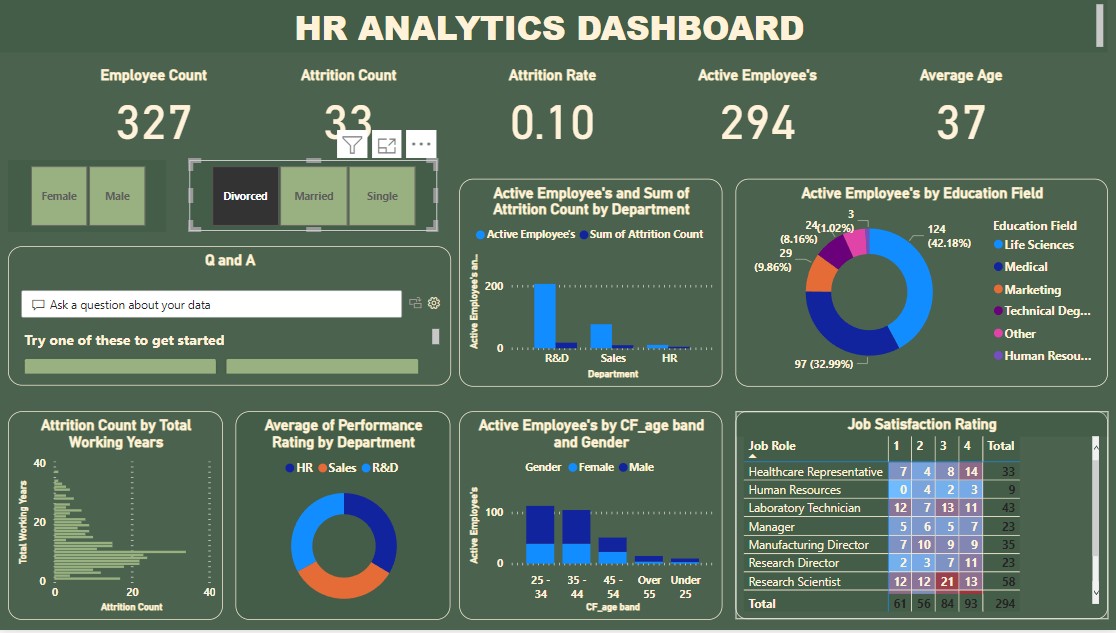

What the dashboard file says about the page in this screenshot:
{"tool":"powerbi","page":{"name":"Page 1","canvas":[1280,720],"ordinal":0},"visuals":[{"type":"card","title":"Employee Count","fields":{"Values":["Sum(HR data.Employee Count)"]},"box":[96.1,75.5,164.7,94.7],"z":0,"group":"g1"},{"type":"card","title":"Attrition Count","fields":{"Values":["Sum(HR data.Attrition Count)"]},"box":[318.9,76,164.7,94.7],"z":1000,"group":"g1"},{"type":"card","title":"Average Age","fields":{"Values":["Avg(HR data.Age)"]},"box":[1018.8,76,164.7,94.7],"z":2000,"group":"g1"},{"type":"card","title":"Active Employee''s","fields":{"Values":["HR data.Active Employee's"]},"box":[785.5,76,164.7,94.7],"z":3000,"group":"g1"},{"type":"card","title":"Attrition Rate","fields":{"Values":["HR data.Attrition Rate"]},"box":[552.2,76,164.7,94.7],"z":4000,"group":"g1"},{"type":"clusteredColumnChart","fields":{"Category":["HR data.Department"],"Y":["HR data.Active Employee's","Sum(HR data.Attrition Count)"]},"box":[526.9,204.5,300.5,237.4],"z":5000},{"type":"donutChart","fields":{"Y":["HR data.Active Employee's"],"Category":["HR data.Education Field"]},"box":[842.5,204.5,425.4,237.4],"z":6000},{"type":"columnChart","fields":{"Category":["HR data.CF_age band"],"Y":["HR data.Active Employee's"],"Series":["HR data.Gender"]},"box":[526.9,470.7,300.5,238.8],"z":7000},{"type":"pivotTable","title":"Job Satisfaction Rating","fields":{"Rows":["HR data.Job Role"],"Values":["HR data.Active Employee's"],"Columns":["HR data.Job Satisfaction"]},"box":[842.5,470.7,425.4,237.4],"z":8000},{"type":"donutChart","fields":{"Y":["Avg(HR data.Performance Rating)"],"Category":["HR data.Department"]},"box":[271.7,470.7,245.6,238.8],"z":9000},{"type":"qnaVisual","title":"Q and A","box":[11,281.3,506.3,159.2],"z":10000},{"type":"clusteredBarChart","title":" Attrition Count by Total Working Years","fields":{"Category":["HR data.Total Working Years"],"Y":["CountNonNull(HR data.Attrition Count)"]},"box":[11,470.7,245.6,238.8],"z":10001},{"type":"slicer","fields":{"Values":["HR data.Gender"]},"box":[11,182.5,181.1,82.3],"z":10002},{"type":"slicer","fields":{"Values":["HR data.Marital Status"]},"box":[218.2,182.5,282.7,82.3],"z":10003},{"type":"group","id":"g1","title":"Group 1","box":[96.1,75.5,1086.8,94.7],"z":10004},{"type":"textbox","box":[0,0,1267.9,60.4],"z":10005}]}

Visuals, with their boxes in screenshot pixels (x1, y1, x2, y2), scaled from the page's 1280x720 canvas onto the 1116x633 screenshot:
"Employee Count" card: (84,66,227,150)
"Attrition Count" card: (278,67,422,150)
"Average Age" card: (888,67,1032,150)
"Active Employee''s" card: (685,67,828,150)
"Attrition Rate" card: (481,67,625,150)
clusteredColumnChart - HR data.Department x HR data.Active Employee's: (459,180,721,389)
donutChart - HR data.Active Employee's x HR data.Education Field: (735,180,1105,389)
columnChart - HR data.CF_age band x HR data.Active Employee's: (459,414,721,624)
"Job Satisfaction Rating" pivotTable: (735,414,1105,623)
donutChart - Avg(HR data.Performance Rating) x HR data.Department: (237,414,451,624)
"Q and A" qnaVisual: (10,247,451,387)
" Attrition Count by Total Working Years" clusteredBarChart: (10,414,224,624)
slicer - HR data.Gender: (10,160,167,233)
slicer - HR data.Marital Status: (190,160,437,233)
"Group 1" group: (84,66,1031,150)
textbox: (0,0,1105,53)
